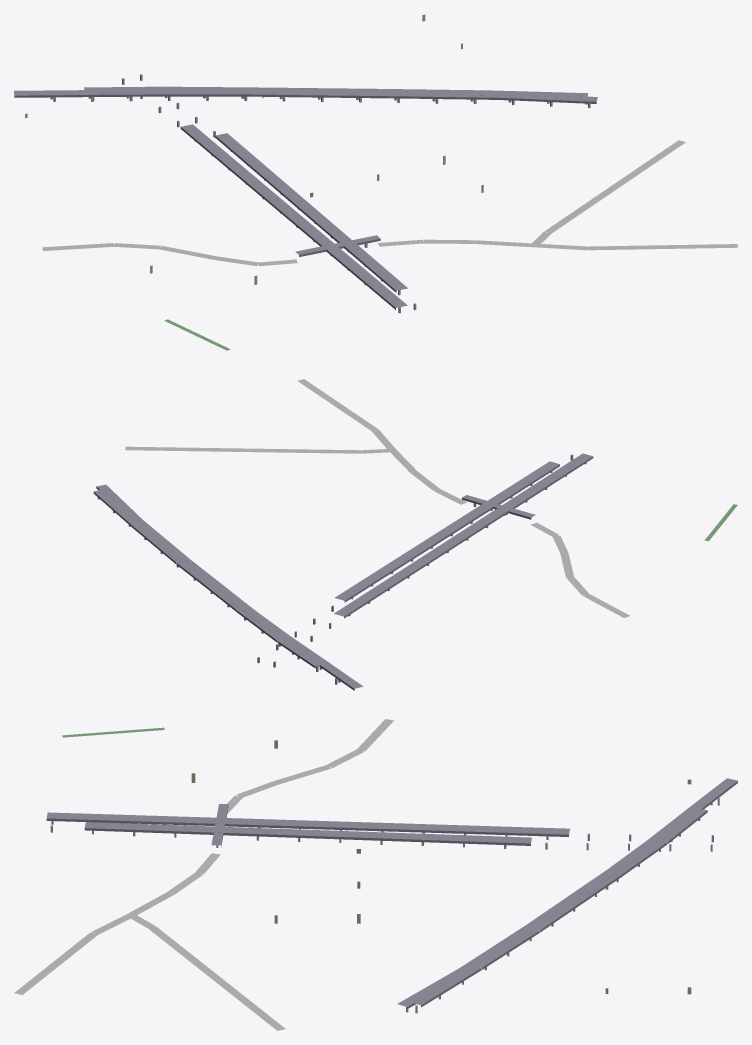
The picture shows the model from 3 angles, top to bottom: view 1: azimuth 30°, elevation 25°; view 2: azimuth 150°, elevation 25°; view 3: azimuth 270°, elevation 25°; orthographic projection. The views are drawn at different scales.
Bounding box in the file's own units: 537 × 9.42 × 525.
